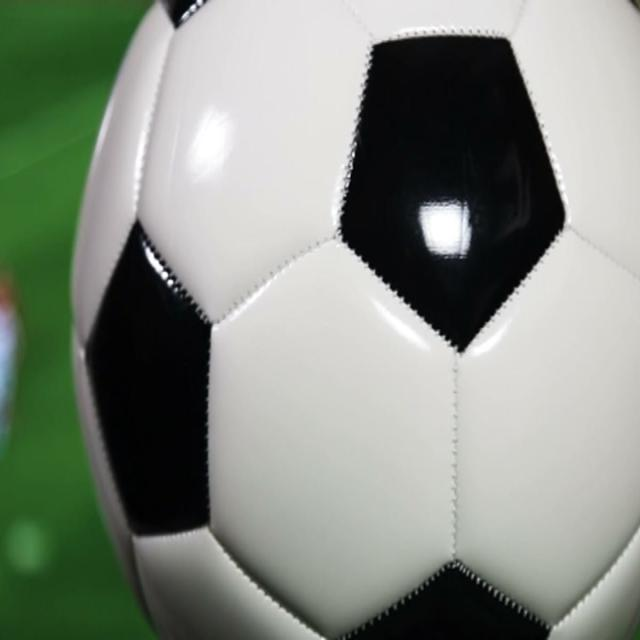ball: (45, 0, 640, 640)
